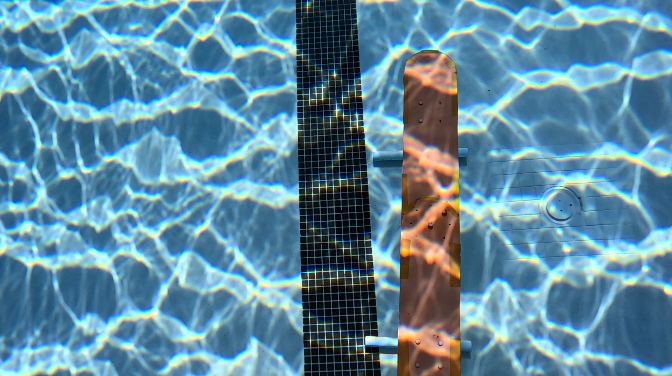pathmarker: (398, 51, 460, 375)
